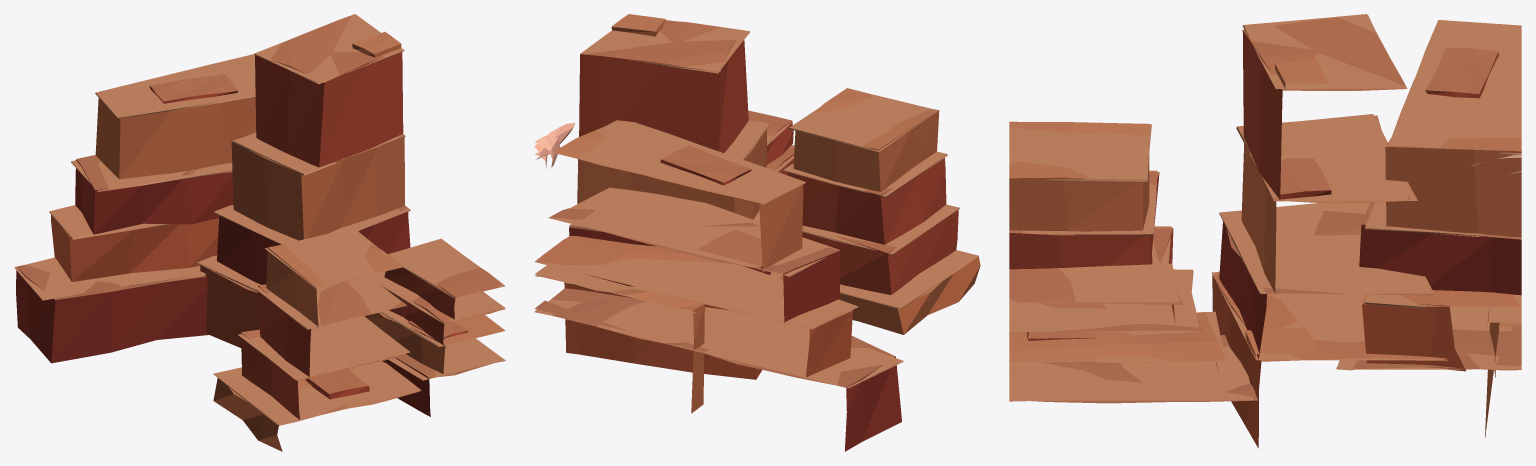
The picture shows the model from 3 angles, left to right: view 1: azimuth 30°, elevation 25°; view 2: azimuth 150°, elevation 25°; view 3: azimuth 270°, elevation 25°; orthographic projection. The views are drawn at different scales.
Parts seen in each view (by area): view 1: scene.6.3; view 2: scene.6.3 (×2); view 3: scene.6.3.
Part boxes in pixels (bbox=[...]): scene.6.3: bbox=[14, 14, 505, 451]; scene.6.3 (×2): bbox=[534, 14, 980, 451]; scene.6.3: bbox=[1009, 14, 1521, 448].
Bounding box in the file's own units: 57.61 × 49.88 × 62.5.
